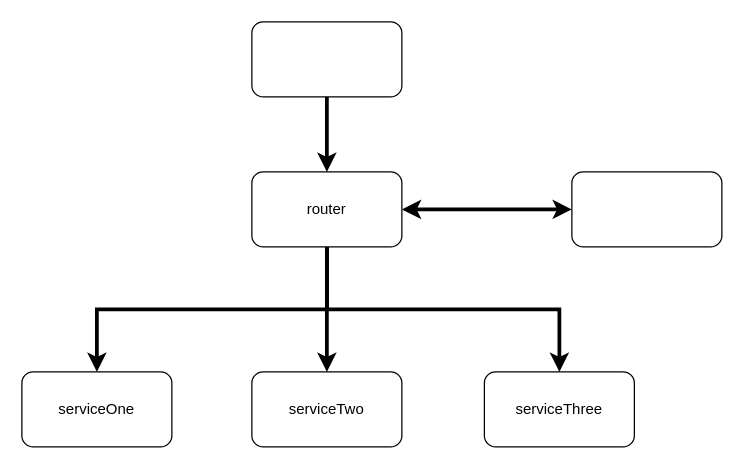
Some shapes in this 744 by 469 pixel diagram are drawn without their labels. Each missing label, with the centre of its shape:
"auth" goes at (646,209).
"user" goes at (326,59).
